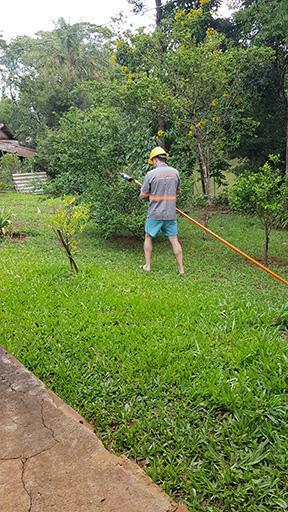helmet: (147, 145, 170, 168)
